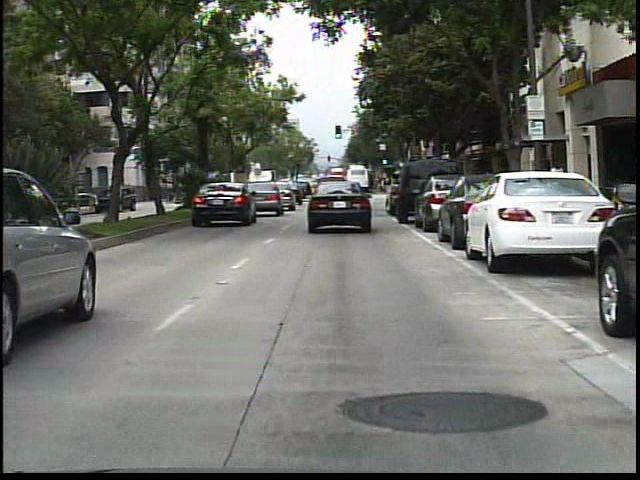person: (544, 157, 568, 214)
